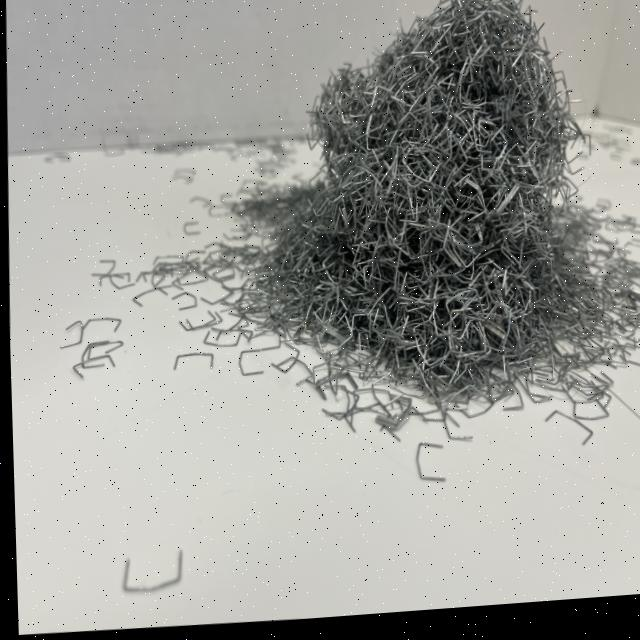staples: (243, 0, 603, 408)
